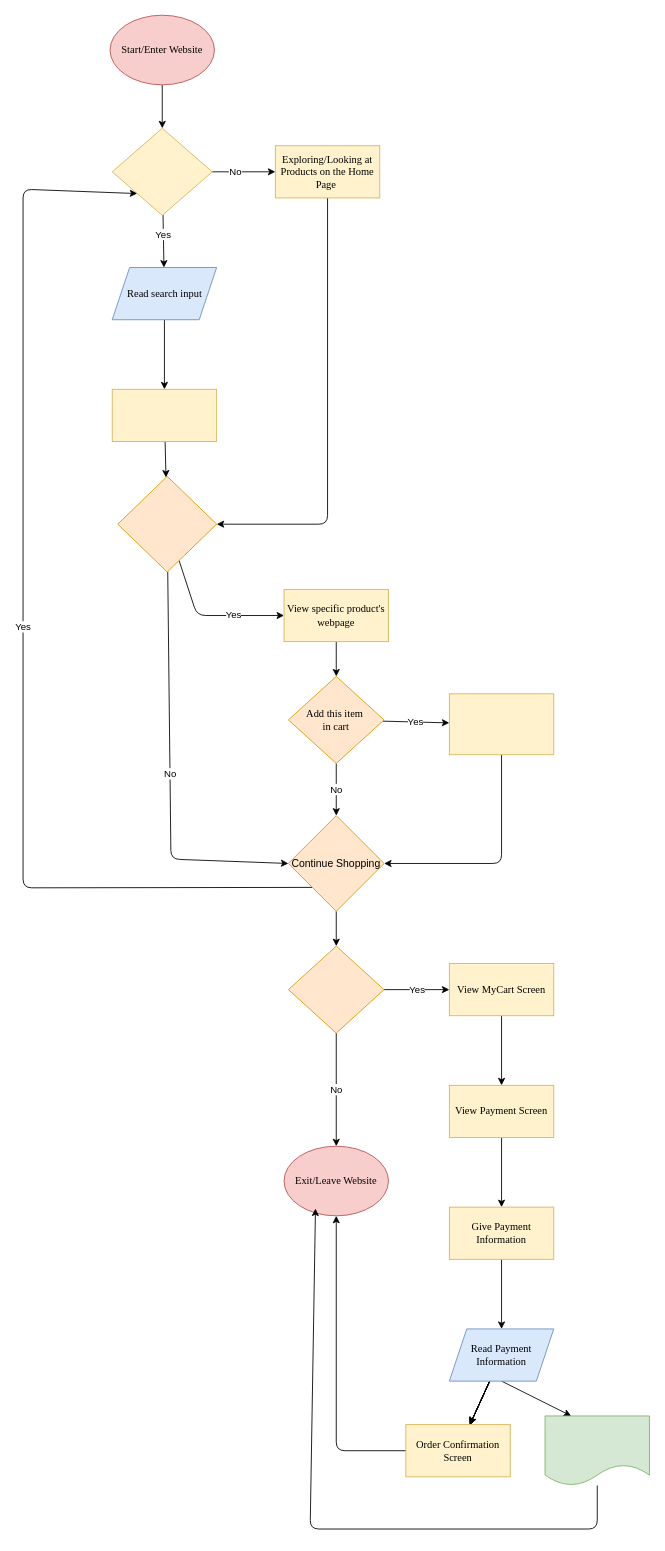
Image size: 665x1551. Some labels were removed from this diagram. The shapes that lost their labels are listed below. From the top down, each one's centre as x and y in pixels, then its label:
(161,171): Searching for a Product
(164,415): Looking at Products Based on the Search Input
(167,523): View a specific product
(501,724): Add to Cart Confirmation
(336,989): Checkout
(596,1450): Email Confirmation
